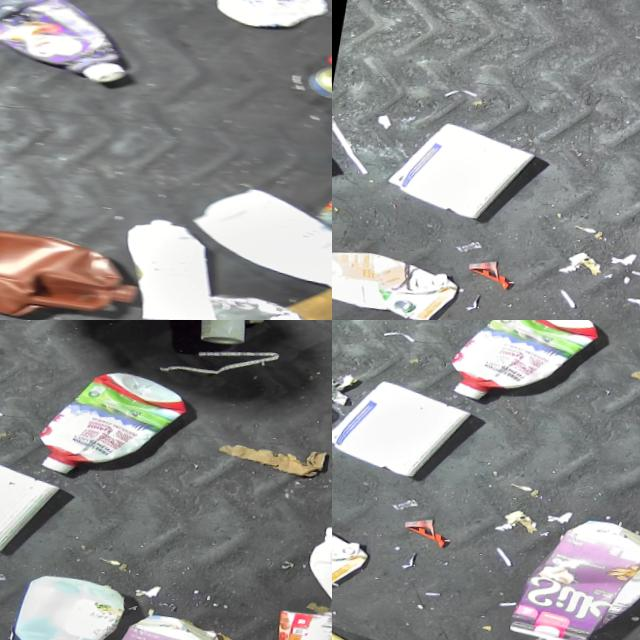can: (255, 591, 332, 640), (311, 170, 332, 261), (296, 60, 332, 110)
non_white_jug: (509, 512, 640, 640), (0, 217, 155, 320), (445, 320, 603, 416), (332, 243, 462, 320), (332, 504, 378, 594)
